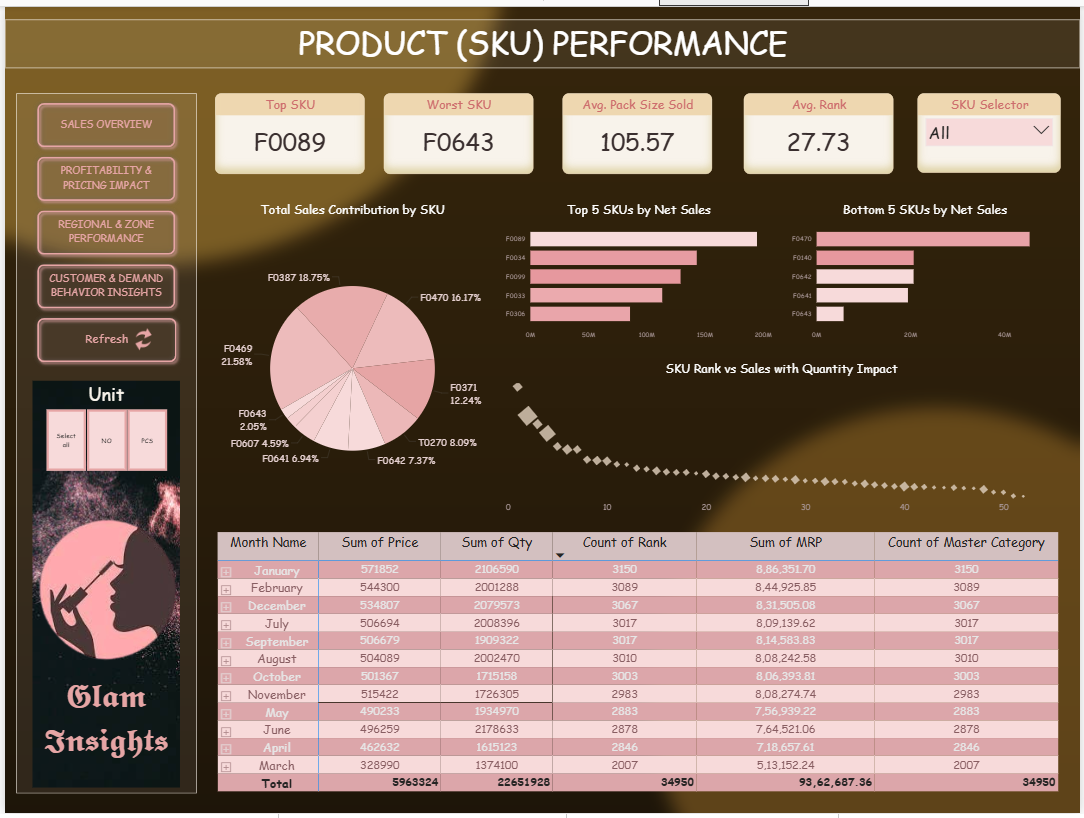

This screenshot's page, from the dashboard's own definition file:
{"tool":"powerbi","page":{"name":"PRODUCT (SKU) PERFORMANCE","canvas":[2000,1500],"ordinal":3},"visuals":[{"type":"card","title":"Top SKU","fields":{"Values":["Page 4 — PRODUCT (SKU) PERFORMANCE.Top SKU"]},"box":[390.5,159.5,278.6,150],"z":0},{"type":"card","title":"Worst SKU","fields":{"Values":["Page 4 — PRODUCT (SKU) PERFORMANCE.Worst SKU"]},"box":[704.8,159.5,278.6,150],"z":1000},{"type":"card","title":"Avg. Pack Size Sold","fields":{"Values":["Page 4 — PRODUCT (SKU) PERFORMANCE.Avg Pack Size Sold"]},"box":[1038.1,159.5,278.6,150],"z":2000},{"type":"card","title":"Avg. Rank","fields":{"Values":["Page 4 — PRODUCT (SKU) PERFORMANCE.Avg Rank"]},"box":[1373.8,159.5,278.6,150],"z":3000},{"type":"clusteredBarChart","title":"Top 5 SKUs by Net Sales","fields":{"Y":["Sum(Cosmetic_products_sales (1).Net Sales calculated)"],"Category":["Cosmetic_products_sales (1).ParentSKU"]},"box":[926.2,359.5,507.1,269],"z":4000},{"type":"clusteredBarChart","title":"Bottom 5 SKUs by Net Sales","fields":{"Category":["Cosmetic_products_sales (1).ParentSKU"],"Y":["Sum(Cosmetic_products_sales (1).Net Sales calculated)"]},"box":[1457.1,359.5,507.1,269],"z":5000},{"type":"scatterChart","title":"SKU Rank vs Sales with Quantity Impact","fields":{"X":["Page 4 — PRODUCT (SKU) PERFORMANCE.Rank Value"],"Y":["Page 1 — SALES OVERVIEW (KPI & visuals).Total Sales"],"Size":["Page 1 — SALES OVERVIEW (KPI & visuals).Total Qty"],"Category":["Cosmetic_products_sales (1).ParentSKU"]},"box":[925.6,656.4,1038.5,294.9],"z":6000},{"type":"slicer","title":"SKU Selector ","fields":{"Values":["Cosmetic_products_sales (1).ParentSKU"]},"box":[1697.6,159.5,266.7,147.6],"z":8000},{"type":"textbox","title":"PRODUCT (SKU) PERFORMANCE","box":[0,22.5,2000,90],"z":9000},{"type":"pivotTable","fields":{"Rows":["Cosmetic_products_sales (1).Month Name","Cosmetic_products_sales (1).Zone"],"Values":["Sum(Cosmetic_products_sales (1).Price)","Sum(Cosmetic_products_sales (1).Qty)","CountNonNull(Cosmetic_products_sales (1).Rank)","Sum(Cosmetic_products_sales (1).MRP)","CountNonNull(Cosmetic_products_sales (1).Master Category)"]},"box":[389.7,971.8,1574.4,492.3],"z":10000},{"type":"shape","box":[20.5,161.5,335.9,1302.6],"z":11000},{"type":"actionButton","box":[51.3,169.2,274.4,100],"z":12000},{"type":"actionButton","box":[51.3,369.2,274.4,100],"z":13000},{"type":"actionButton","box":[51.3,269.2,274.4,100],"z":14000},{"type":"actionButton","box":[51.3,469.2,274.4,100],"z":15000},{"type":"image","box":[51.3,694.9,274.4,756.4],"z":16000},{"type":"image","box":[51.3,892.3,274.4,361.5],"z":17000},{"type":"slicer","title":"Unit","fields":{"Values":["Cosmetic_products_sales (1).Unit"]},"box":[51.3,694.9,274.4,174.4],"z":18000},{"type":"textbox","box":[51.3,1235.9,274.4,192.3],"z":19000},{"type":"actionButton","box":[51.3,569.2,276.9,100],"z":20000},{"type":"image","box":[215.4,597.4,82.1,41],"z":21000},{"type":"pieChart","title":"Total Sales Contribution by SKU","fields":{"Y":["Page 1 — SALES OVERVIEW (KPI & visuals).Total Sales"],"Category":["Cosmetic_products_sales (1).ParentSKU"]},"box":[390.5,359.5,511.9,592.9],"z":22000}]}

Visuals, with their boxes in screenshot pixels (x1, y1, x2, y2), scaled from the page's 2000x1500 canvas onto the 1084x818 screenshot:
"Top SKU" card: crop(212, 87, 363, 169)
"Worst SKU" card: crop(382, 87, 533, 169)
"Avg. Pack Size Sold" card: crop(563, 87, 714, 169)
"Avg. Rank" card: crop(745, 87, 896, 169)
"Top 5 SKUs by Net Sales" clusteredBarChart: crop(502, 196, 777, 343)
"Bottom 5 SKUs by Net Sales" clusteredBarChart: crop(790, 196, 1065, 343)
"SKU Rank vs Sales with Quantity Impact" scatterChart: crop(502, 358, 1065, 519)
"SKU Selector " slicer: crop(920, 87, 1065, 167)
"PRODUCT (SKU) PERFORMANCE" textbox: crop(0, 12, 1083, 61)
pivotTable - Cosmetic_products_sales (1).Month Name x Cosmetic_products_sales (1).Zone: crop(211, 530, 1065, 798)
shape: crop(11, 88, 193, 798)
actionButton: crop(28, 92, 177, 147)
actionButton: crop(28, 201, 177, 256)
actionButton: crop(28, 147, 177, 201)
actionButton: crop(28, 256, 177, 310)
image: crop(28, 379, 177, 791)
image: crop(28, 487, 177, 684)
"Unit" slicer: crop(28, 379, 177, 474)
textbox: crop(28, 674, 177, 779)
actionButton: crop(28, 310, 178, 365)
image: crop(117, 326, 161, 348)
"Total Sales Contribution by SKU" pieChart: crop(212, 196, 489, 519)
